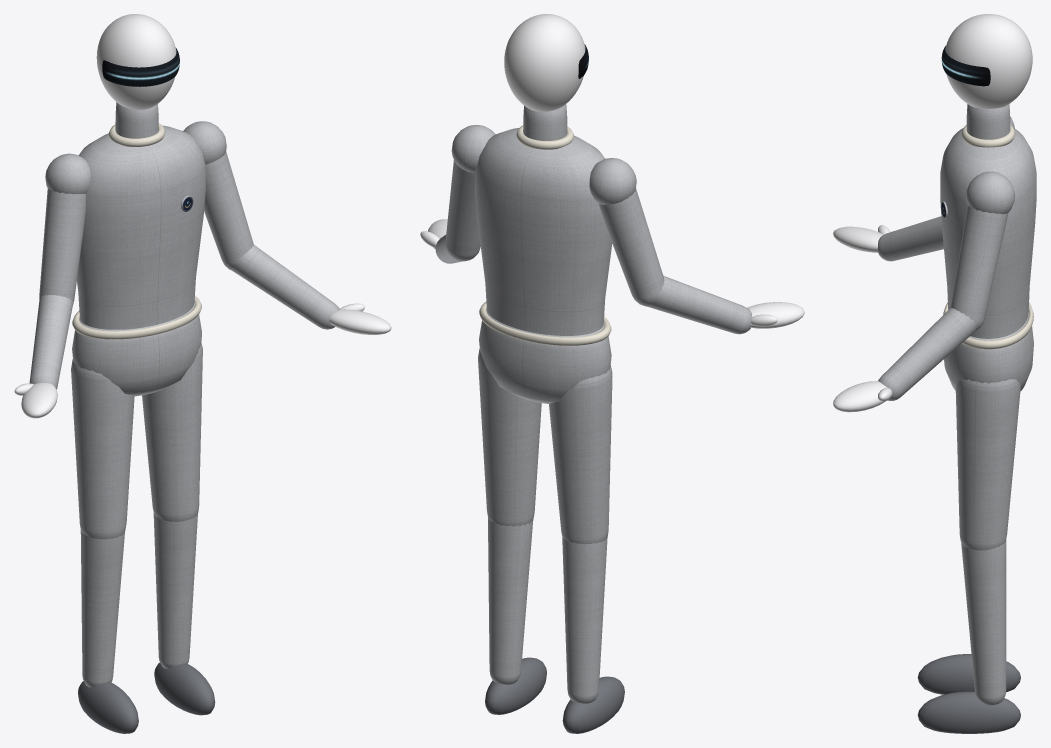
The model's file is host.glb.
3 views of the same model, side by side, from view 1: azimuth 30°, elevation 25°; view 2: azimuth 150°, elevation 25°; view 3: azimuth 270°, elevation 25° (orthographic).
Parts seen in each view (by area): view 1: Avatar · Host; view 2: Avatar · Host; view 3: Avatar · Host.
Boxes of the visible parts, <box> form: Avatar · Host: <box>14,14,391,733</box>; Avatar · Host: <box>420,14,804,733</box>; Avatar · Host: <box>833,14,1036,733</box>.
Size of the model in its own units: 0.9982 by 1.8 by 0.4802.
Materials: 6 (3 with a texture image).
